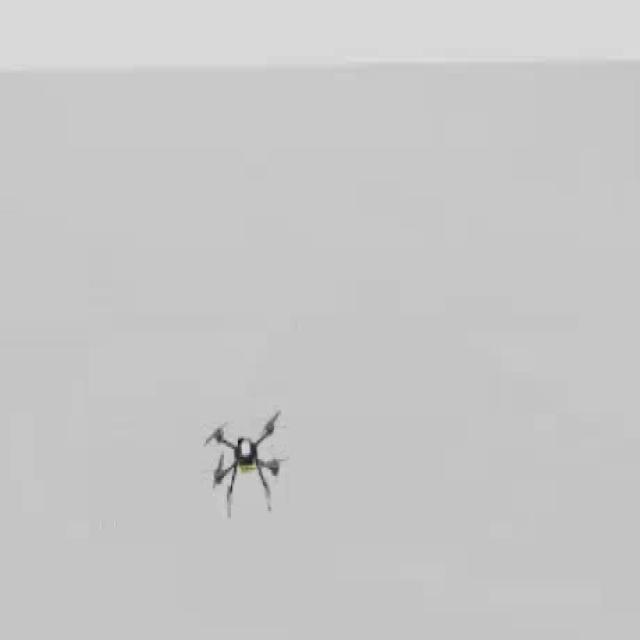drone: (202, 408, 297, 518)
